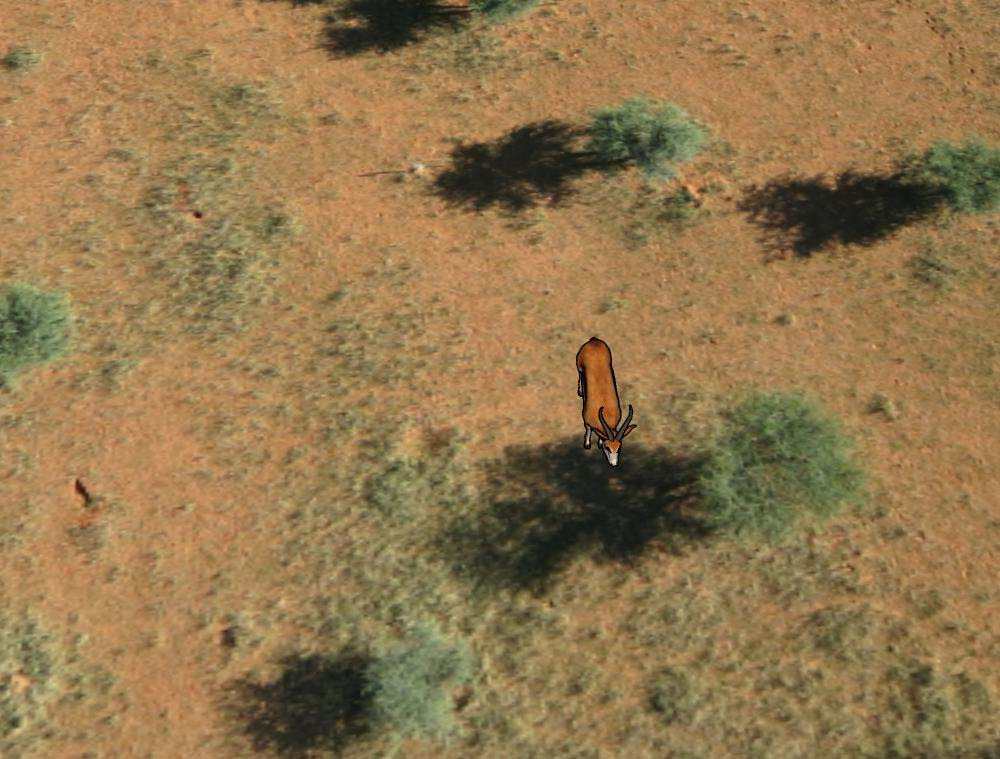springbok: (568, 334, 639, 473)
